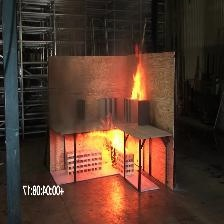fire: (85, 117, 138, 173), (117, 43, 158, 108)
